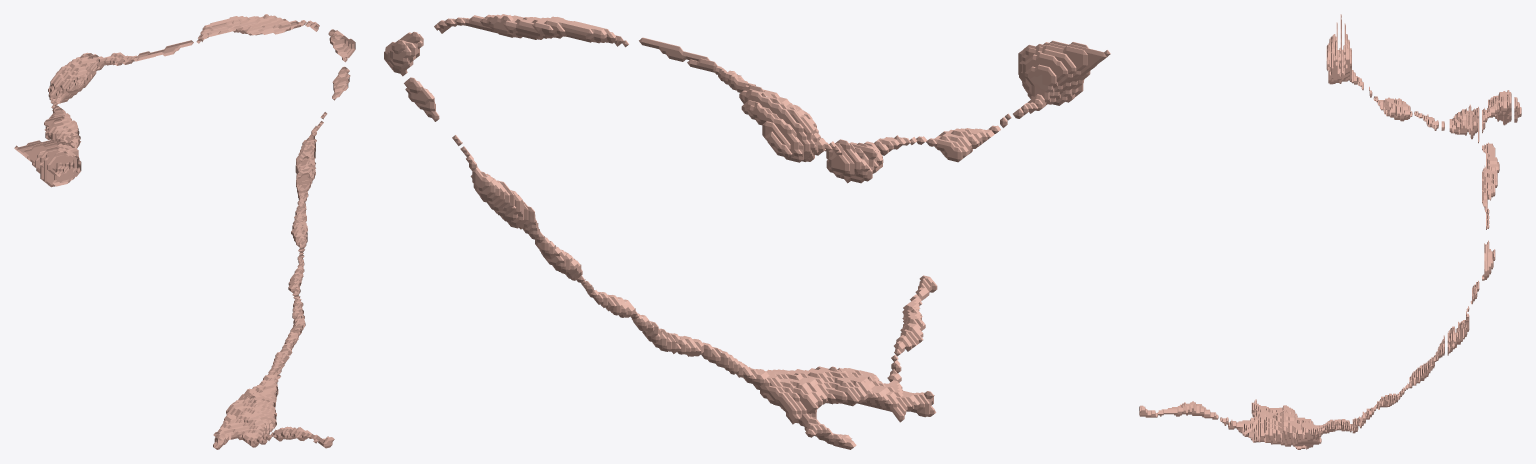
Rendered from SVV_SMBDR.gltf.
3 renders of one model, left to right at view 1: azimuth 30°, elevation 25°; view 2: azimuth 150°, elevation 25°; view 3: azimuth 270°, elevation 25°, orthographic. The views are drawn at different scales.
Parts seen in each view (by area): view 1: SMBDR; view 2: SMBDR; view 3: SMBDR.
Boxes of the visible parts, bbox=[...] form: SMBDR: bbox=[14, 14, 355, 449]; SMBDR: bbox=[384, 14, 1110, 449]; SMBDR: bbox=[1139, 14, 1521, 449].
Bounding box in the file's own units: 93232 × 70687 × 72736.
